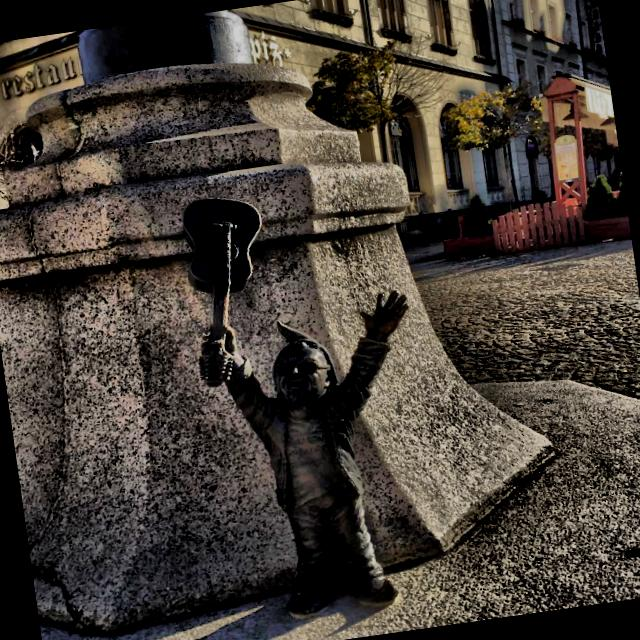Leszko_z_Wroclawia: (182, 200, 408, 616)
